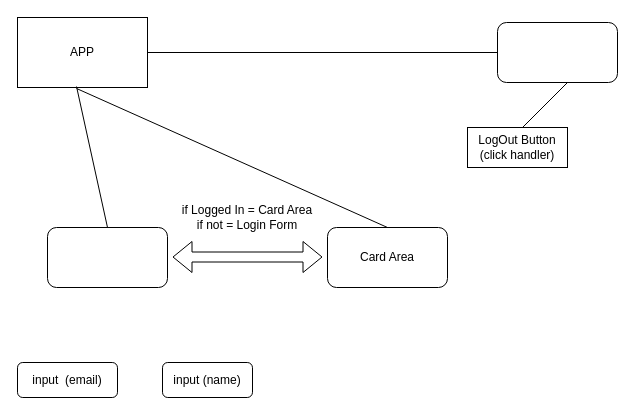
This 635x415 diagram has some shape labels left out. Each missing label, with the centre of its shape:
"Header" goes at (x=557, y=52).
"Login Form" goes at (x=107, y=257).
